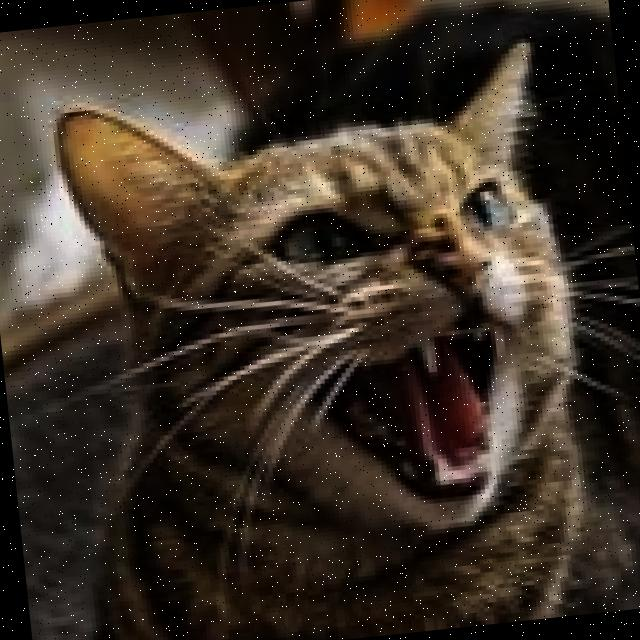Angry: (197, 165, 582, 554)
